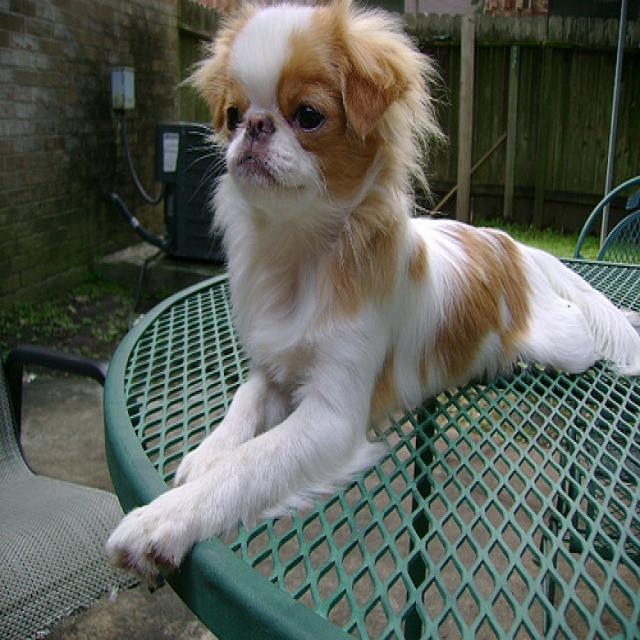dog-japanese_chin: (95, 2, 637, 602)
